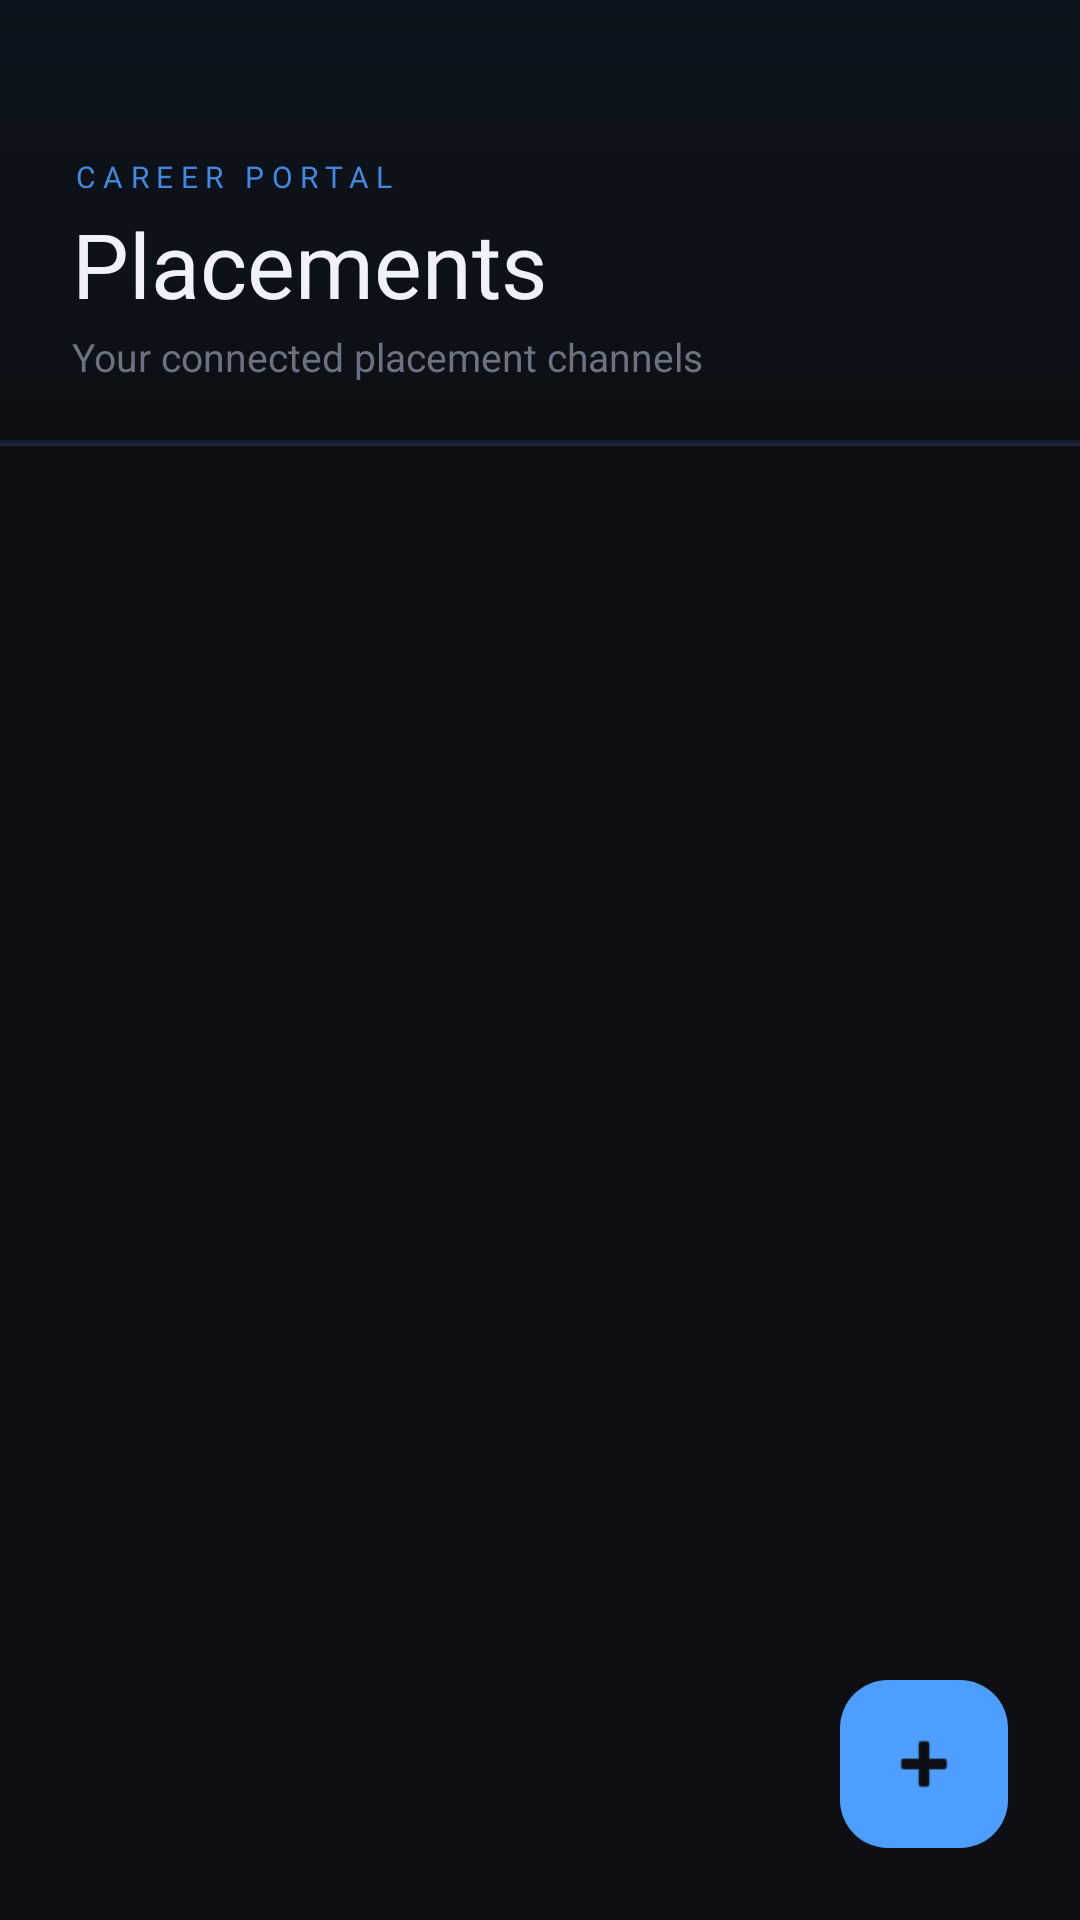

Icons on this 1080x1920 Android screen, each with the point to tap as [x,y]:
Add Channel: [924,1764]
